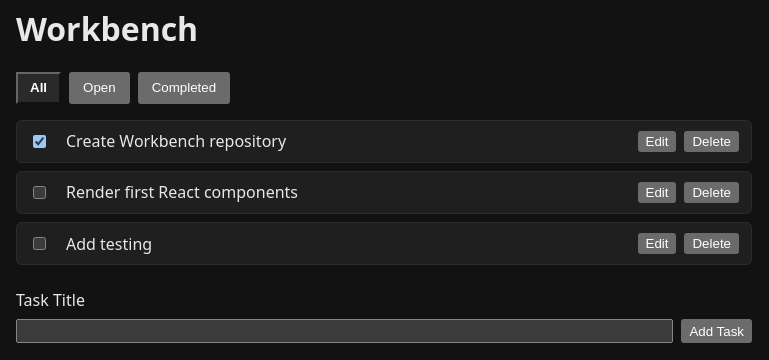
Test: completed shows only completed tasks
What coordinates should you click on to do the following:
click the button "Completed"
I would click on:
 (184, 88)
Its box is [138,72,230,104].
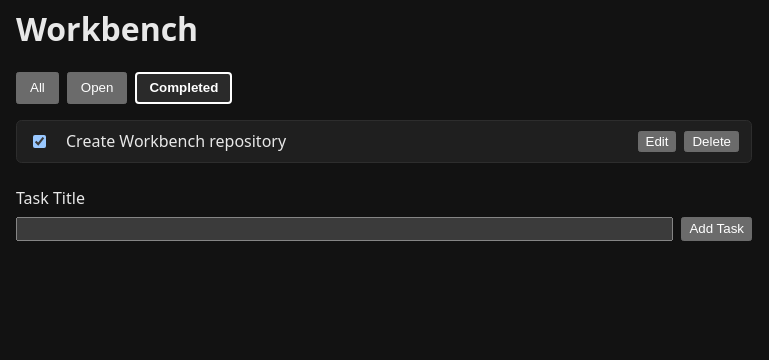
Expected: the checkbox labelled "Create Workbench repository" is shown, [33,135,46,148]
Now the label "Render first React components" is gone
Now the label "Add testing" is gone
